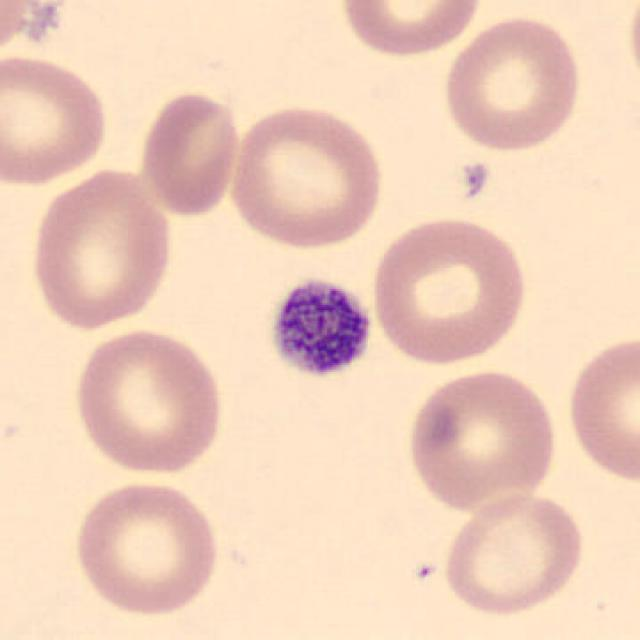Platelets: (265, 273, 377, 381)
RBC: (368, 212, 532, 368), (27, 164, 176, 333), (224, 100, 389, 250), (70, 324, 228, 478), (402, 365, 564, 515), (69, 476, 224, 619), (439, 11, 585, 155), (439, 488, 589, 619), (0, 50, 112, 190), (135, 86, 244, 218), (562, 329, 640, 486), (336, 0, 487, 60), (0, 0, 78, 65), (0, 0, 36, 67), (624, 0, 640, 104)
